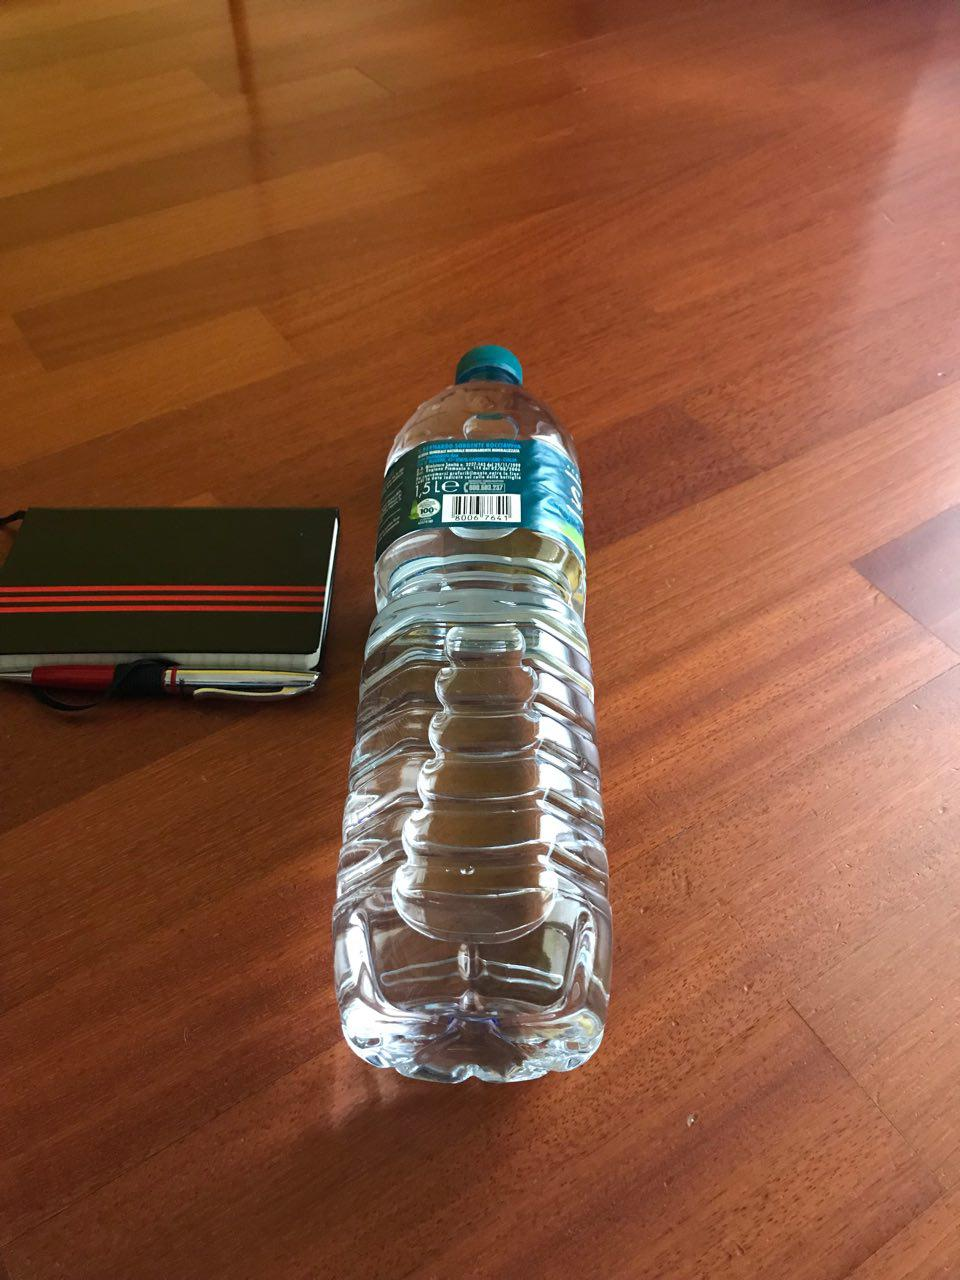san_bernardo: (329, 342, 615, 1087)
